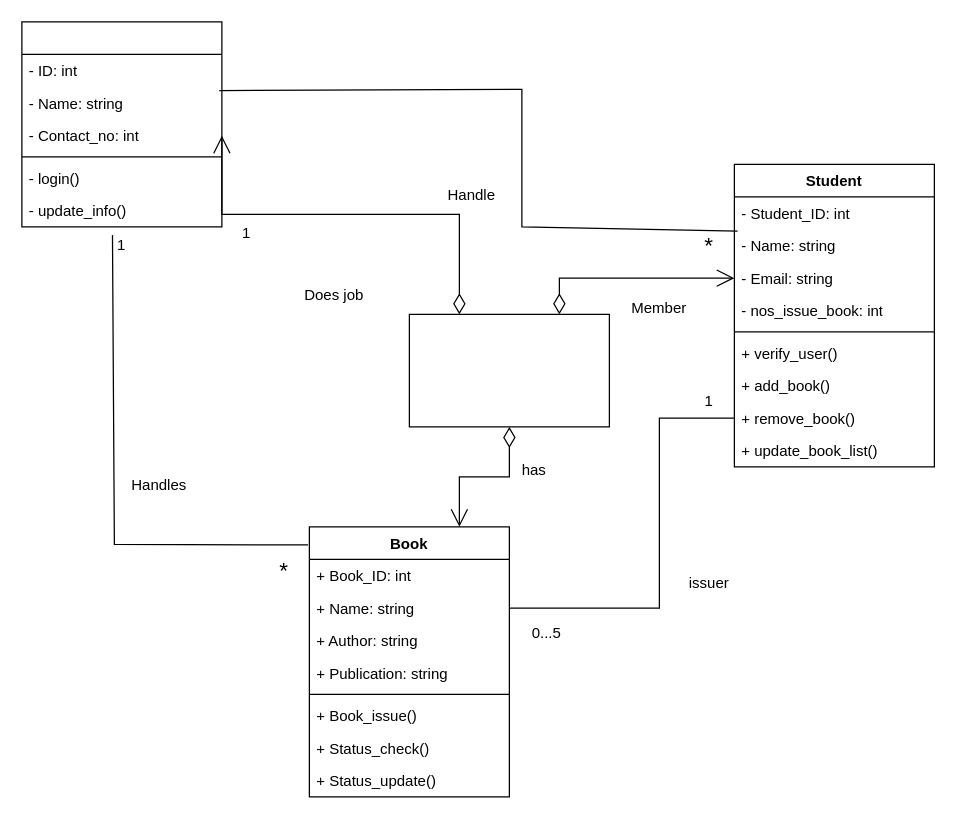
This 956x823 diagram has some shape labels left out. The box of each missing label's shape, as (x1, y1, x2, y2) in pixels:
Librarian: (21, 21, 222, 227)
Library + Name: string: (408, 313, 609, 427)
